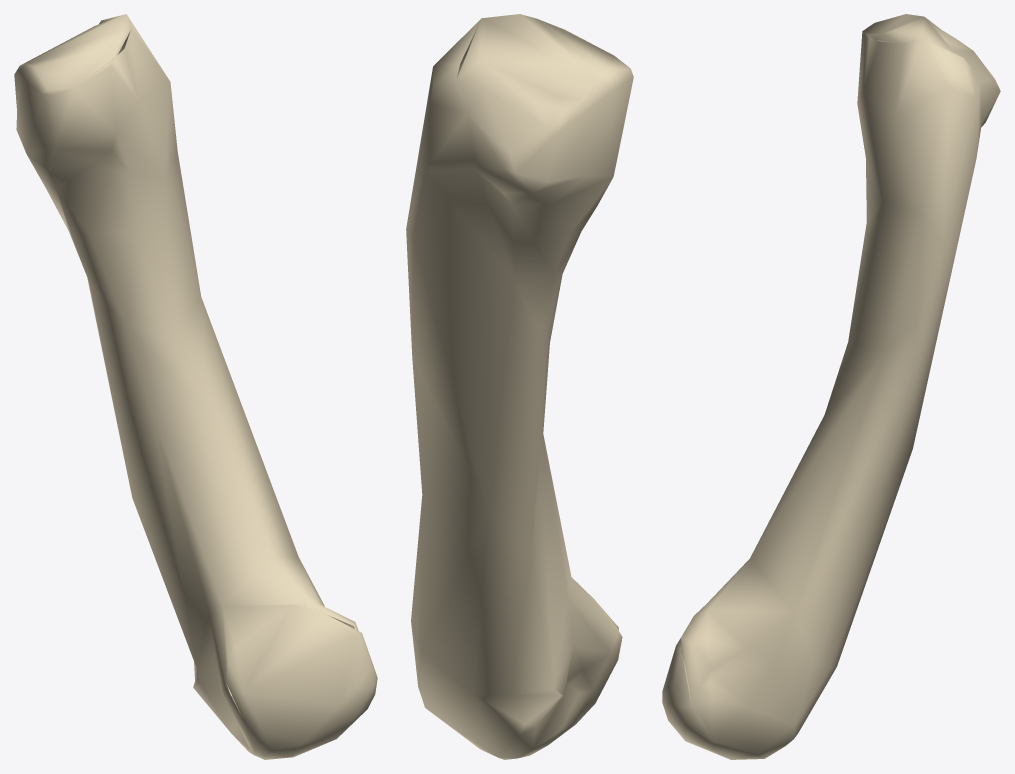
File: esqueleto-fifth-metacarpal-bone-r.glb
3 renders of one model, left to right at view 1: azimuth 30°, elevation 25°; view 2: azimuth 150°, elevation 25°; view 3: azimuth 270°, elevation 25°, orthographic. The views are drawn at different scales.
Parts seen in each view (by area): view 1: Fifth metacarpal bone.r; view 2: Fifth metacarpal bone.r; view 3: Fifth metacarpal bone.r.
Boxes of the visible parts, x1=… form: Fifth metacarpal bone.r: x1=14, y1=14, x2=377, y2=759; Fifth metacarpal bone.r: x1=406, y1=14, x2=633, y2=759; Fifth metacarpal bone.r: x1=662, y1=14, x2=1000, y2=759.
Bounding box in the file's own units: 0.0209 × 0.057 × 0.0255.
